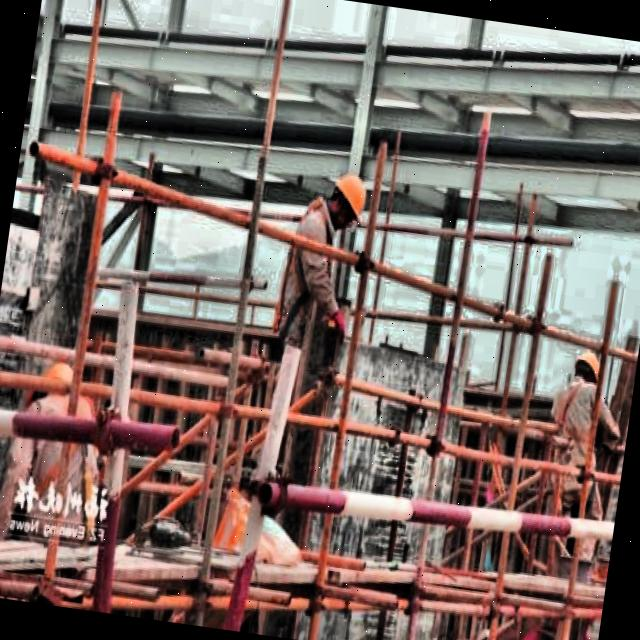helmet: (319, 167, 372, 236), (570, 339, 607, 394)
